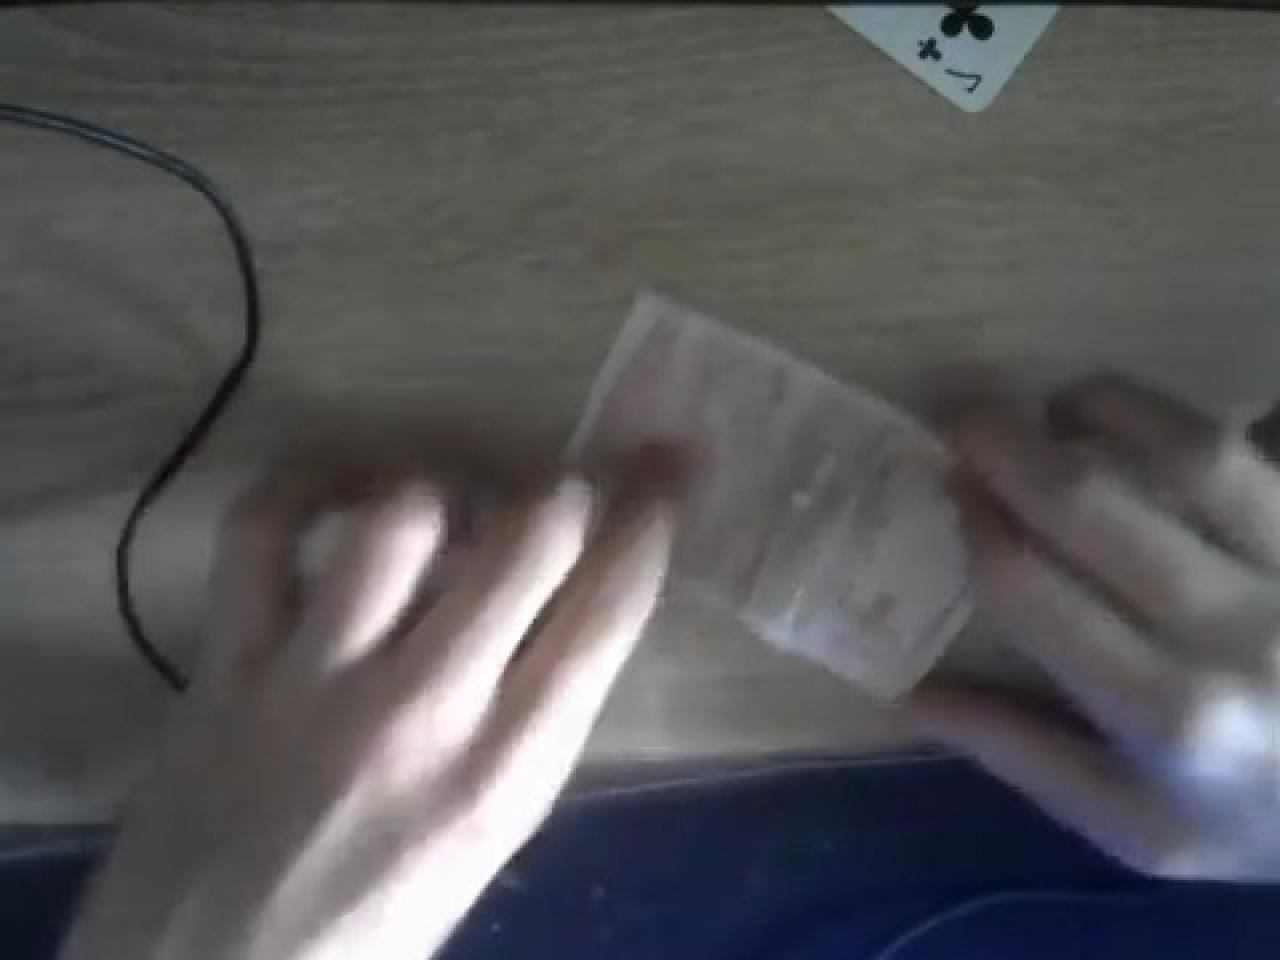5leva: (562, 282, 1011, 707)
